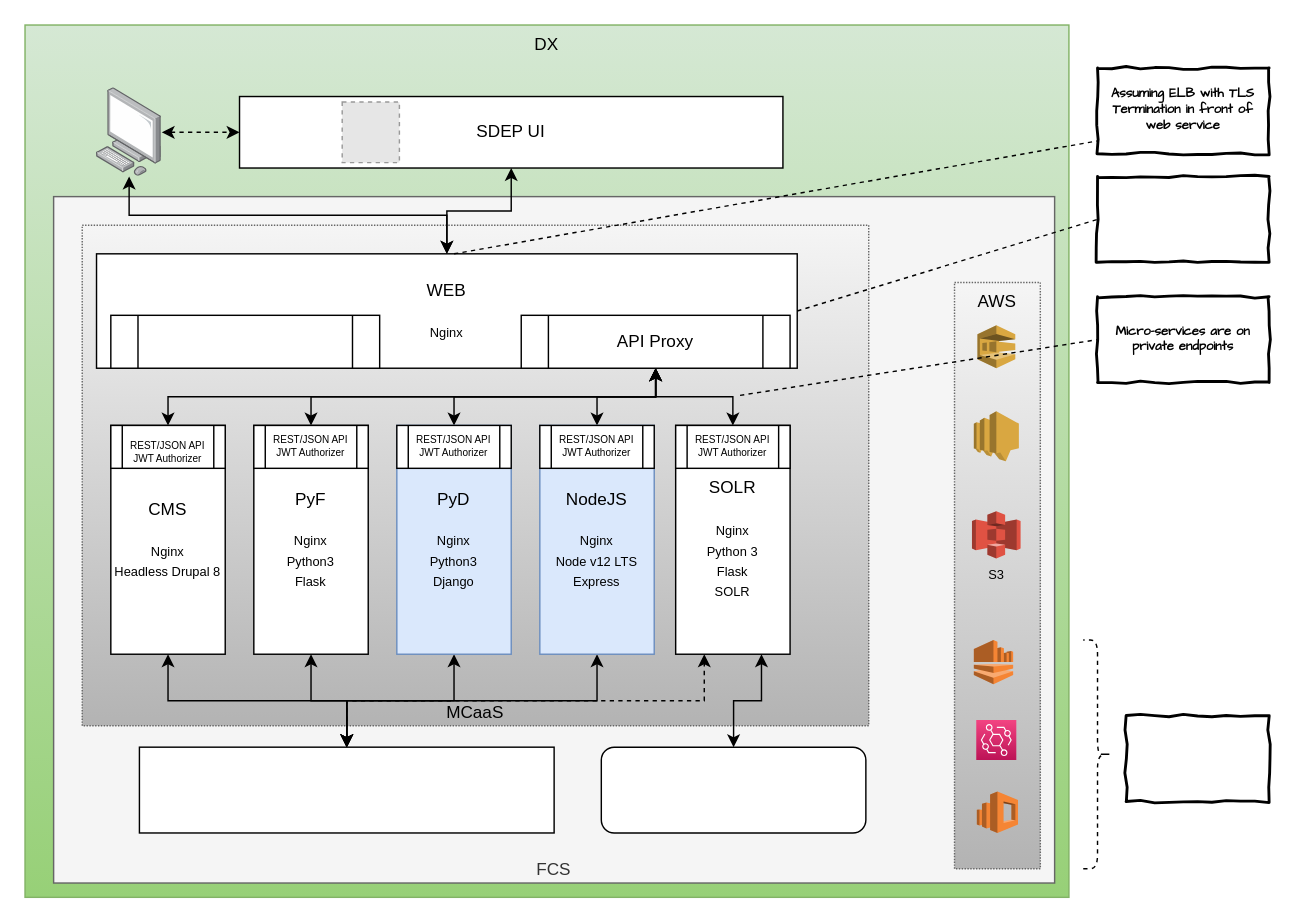
This 1296x922 diagram has some shape labels left out. Grey dashed boxes stand in for pictures. The centre of each missing label's shape, as x and y in pixels:
Elastic: point (996, 811)
EventBridge: point (995, 739)
FCS-D: point (733, 789)
Ideally this is AWS API Gateway and WEB does not have to proxy for services: point (1182, 218)
Kinesis: point (992, 661)
Kinesis, EventBridge and Elastic are desired but optional: point (1197, 758)
RDS / MySQL Each micro-service has dedicated DB as needed: point (346, 789)
SNS: point (995, 435)
SQS: point (995, 346)
Static SDEP Assets: point (244, 341)
